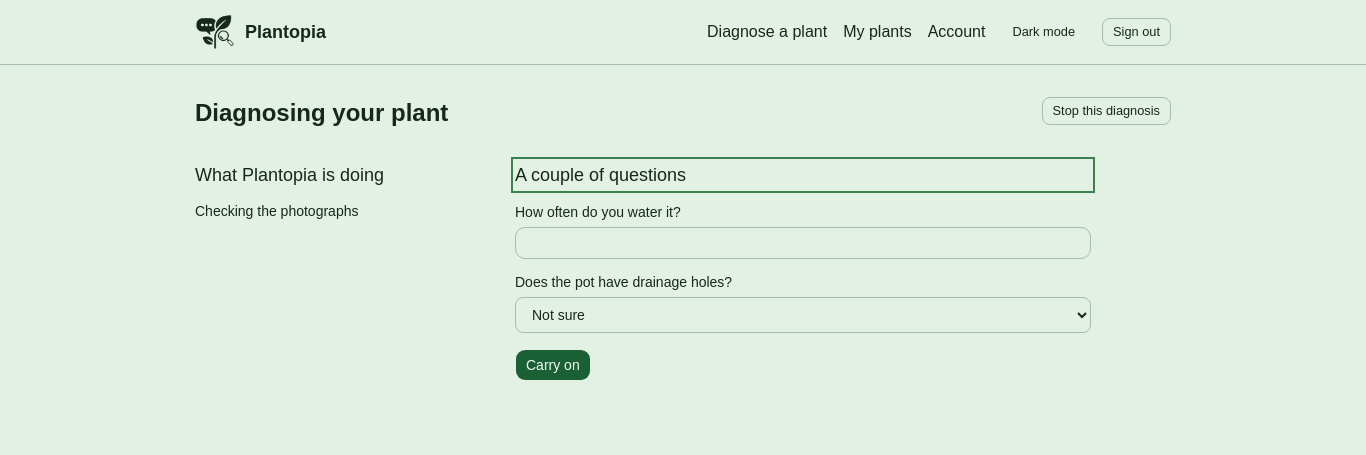
Test: when it asks something › says so when the run is no longer waiting
Click the button "Carry on": {"x": 553, "y": 365} [515,349,591,381]
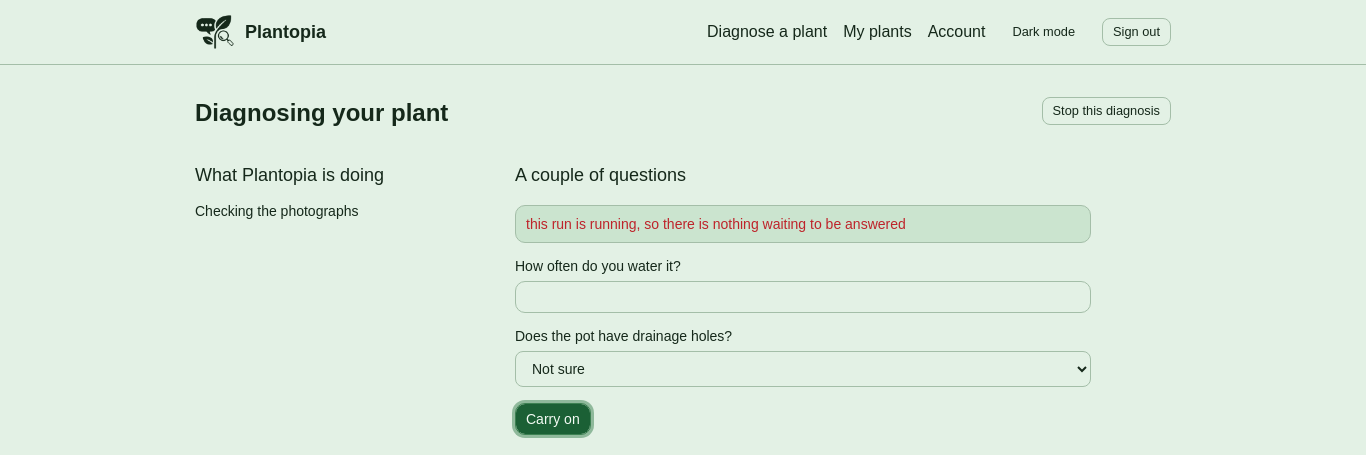
Result: the message shows "nothing waiting" at [526,216,906,232]
